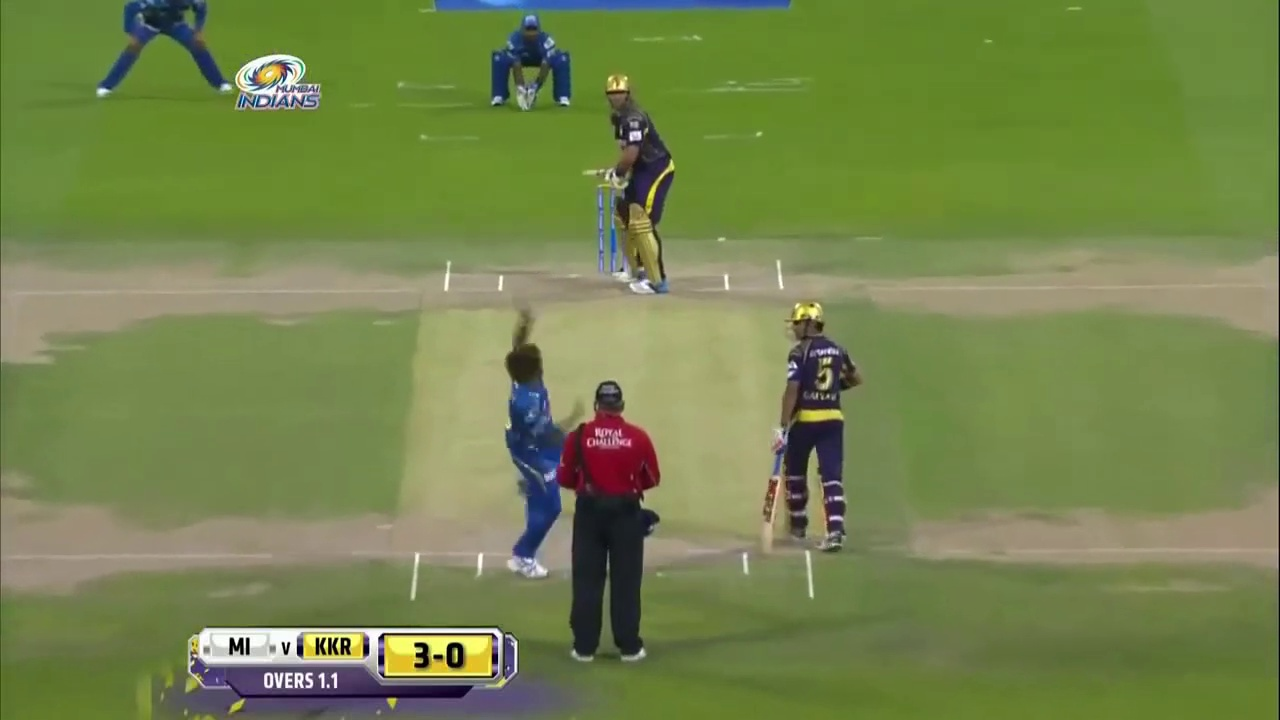bat: (759, 462, 785, 557)
